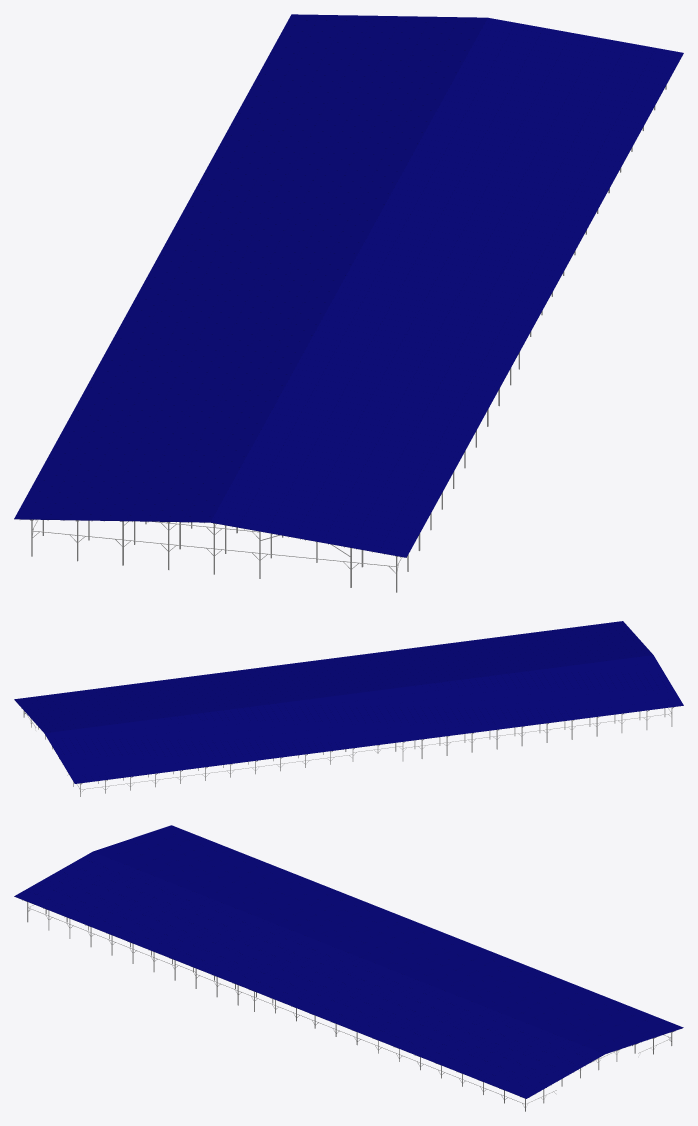
The model's file is yangguangpeng.glb.
3 renders of one model, top to bottom at view 1: azimuth 30°, elevation 25°; view 2: azimuth 150°, elevation 25°; view 3: azimuth 270°, elevation 25°, orthographic. The views are drawn at different scales.
Bounding box in the file's own units: 96.73 × 5.68 × 100.
